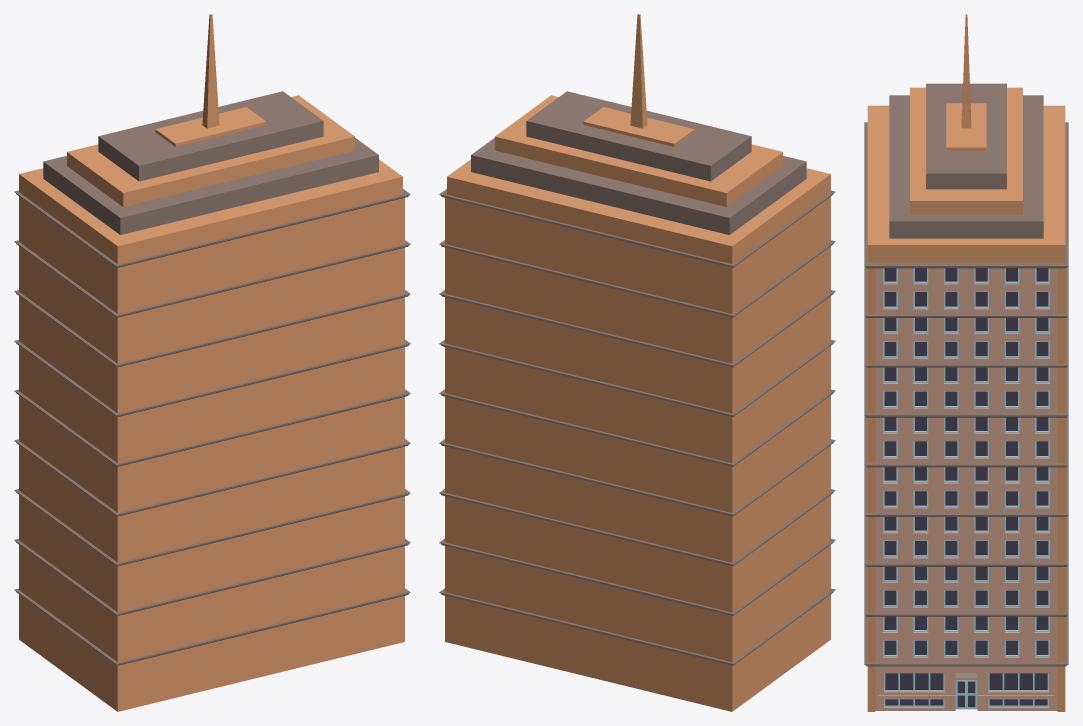
Rendered from Building16.fbx.
3 renders of one model, left to right at view 1: azimuth 30°, elevation 25°; view 2: azimuth 150°, elevation 25°; view 3: azimuth 270°, elevation 25°, orthographic.
Visible parts, largest first — view 1: Plane.112, Plane.111, Plane.108, Plane.104, Plane.107, Plane.109, Plane.103, Plane.105, Plane.110, Plane.106; view 2: Plane.112, Plane.111, Plane.108, Plane.104, Plane.105, Plane.107, Plane.109, Plane.103, Plane.110, Plane.106; view 3: Plane.112, Plane.111, Plane.104, Plane.105, Plane.109, Plane.108, Plane.110, Plane.106, Plane.107, Plane.103.
Part boxes in pixels (x1,y1,x2,y2): Plane.112: (19, 14, 402, 263); Plane.111: (14, 189, 410, 313); Plane.108: (14, 339, 410, 462); Plane.104: (14, 538, 410, 661); Plane.107: (14, 389, 410, 512); Plane.109: (14, 290, 410, 413); Plane.103: (14, 588, 410, 711); Plane.105: (14, 489, 410, 612); Plane.110: (14, 240, 410, 363); Plane.106: (14, 439, 410, 562); Plane.112: (447, 14, 830, 263); Plane.111: (439, 189, 835, 313); Plane.108: (439, 339, 835, 462); Plane.104: (439, 538, 835, 661); Plane.105: (439, 489, 835, 612); Plane.107: (439, 389, 835, 512); Plane.109: (439, 290, 835, 413); Plane.103: (439, 588, 835, 711); Plane.110: (439, 240, 835, 363); Plane.106: (439, 439, 835, 562); Plane.112: (867, 14, 1065, 262); Plane.111: (864, 122, 1068, 313); Plane.104: (864, 565, 1068, 662); Plane.105: (864, 515, 1068, 612); Plane.109: (864, 316, 1068, 413); Plane.108: (864, 366, 1068, 462); Plane.110: (864, 266, 1068, 363); Plane.106: (864, 465, 1068, 562); Plane.107: (864, 416, 1068, 512); Plane.103: (864, 615, 1068, 711).
Size of the model in its own units: 3098 by 6297 by 1858.
